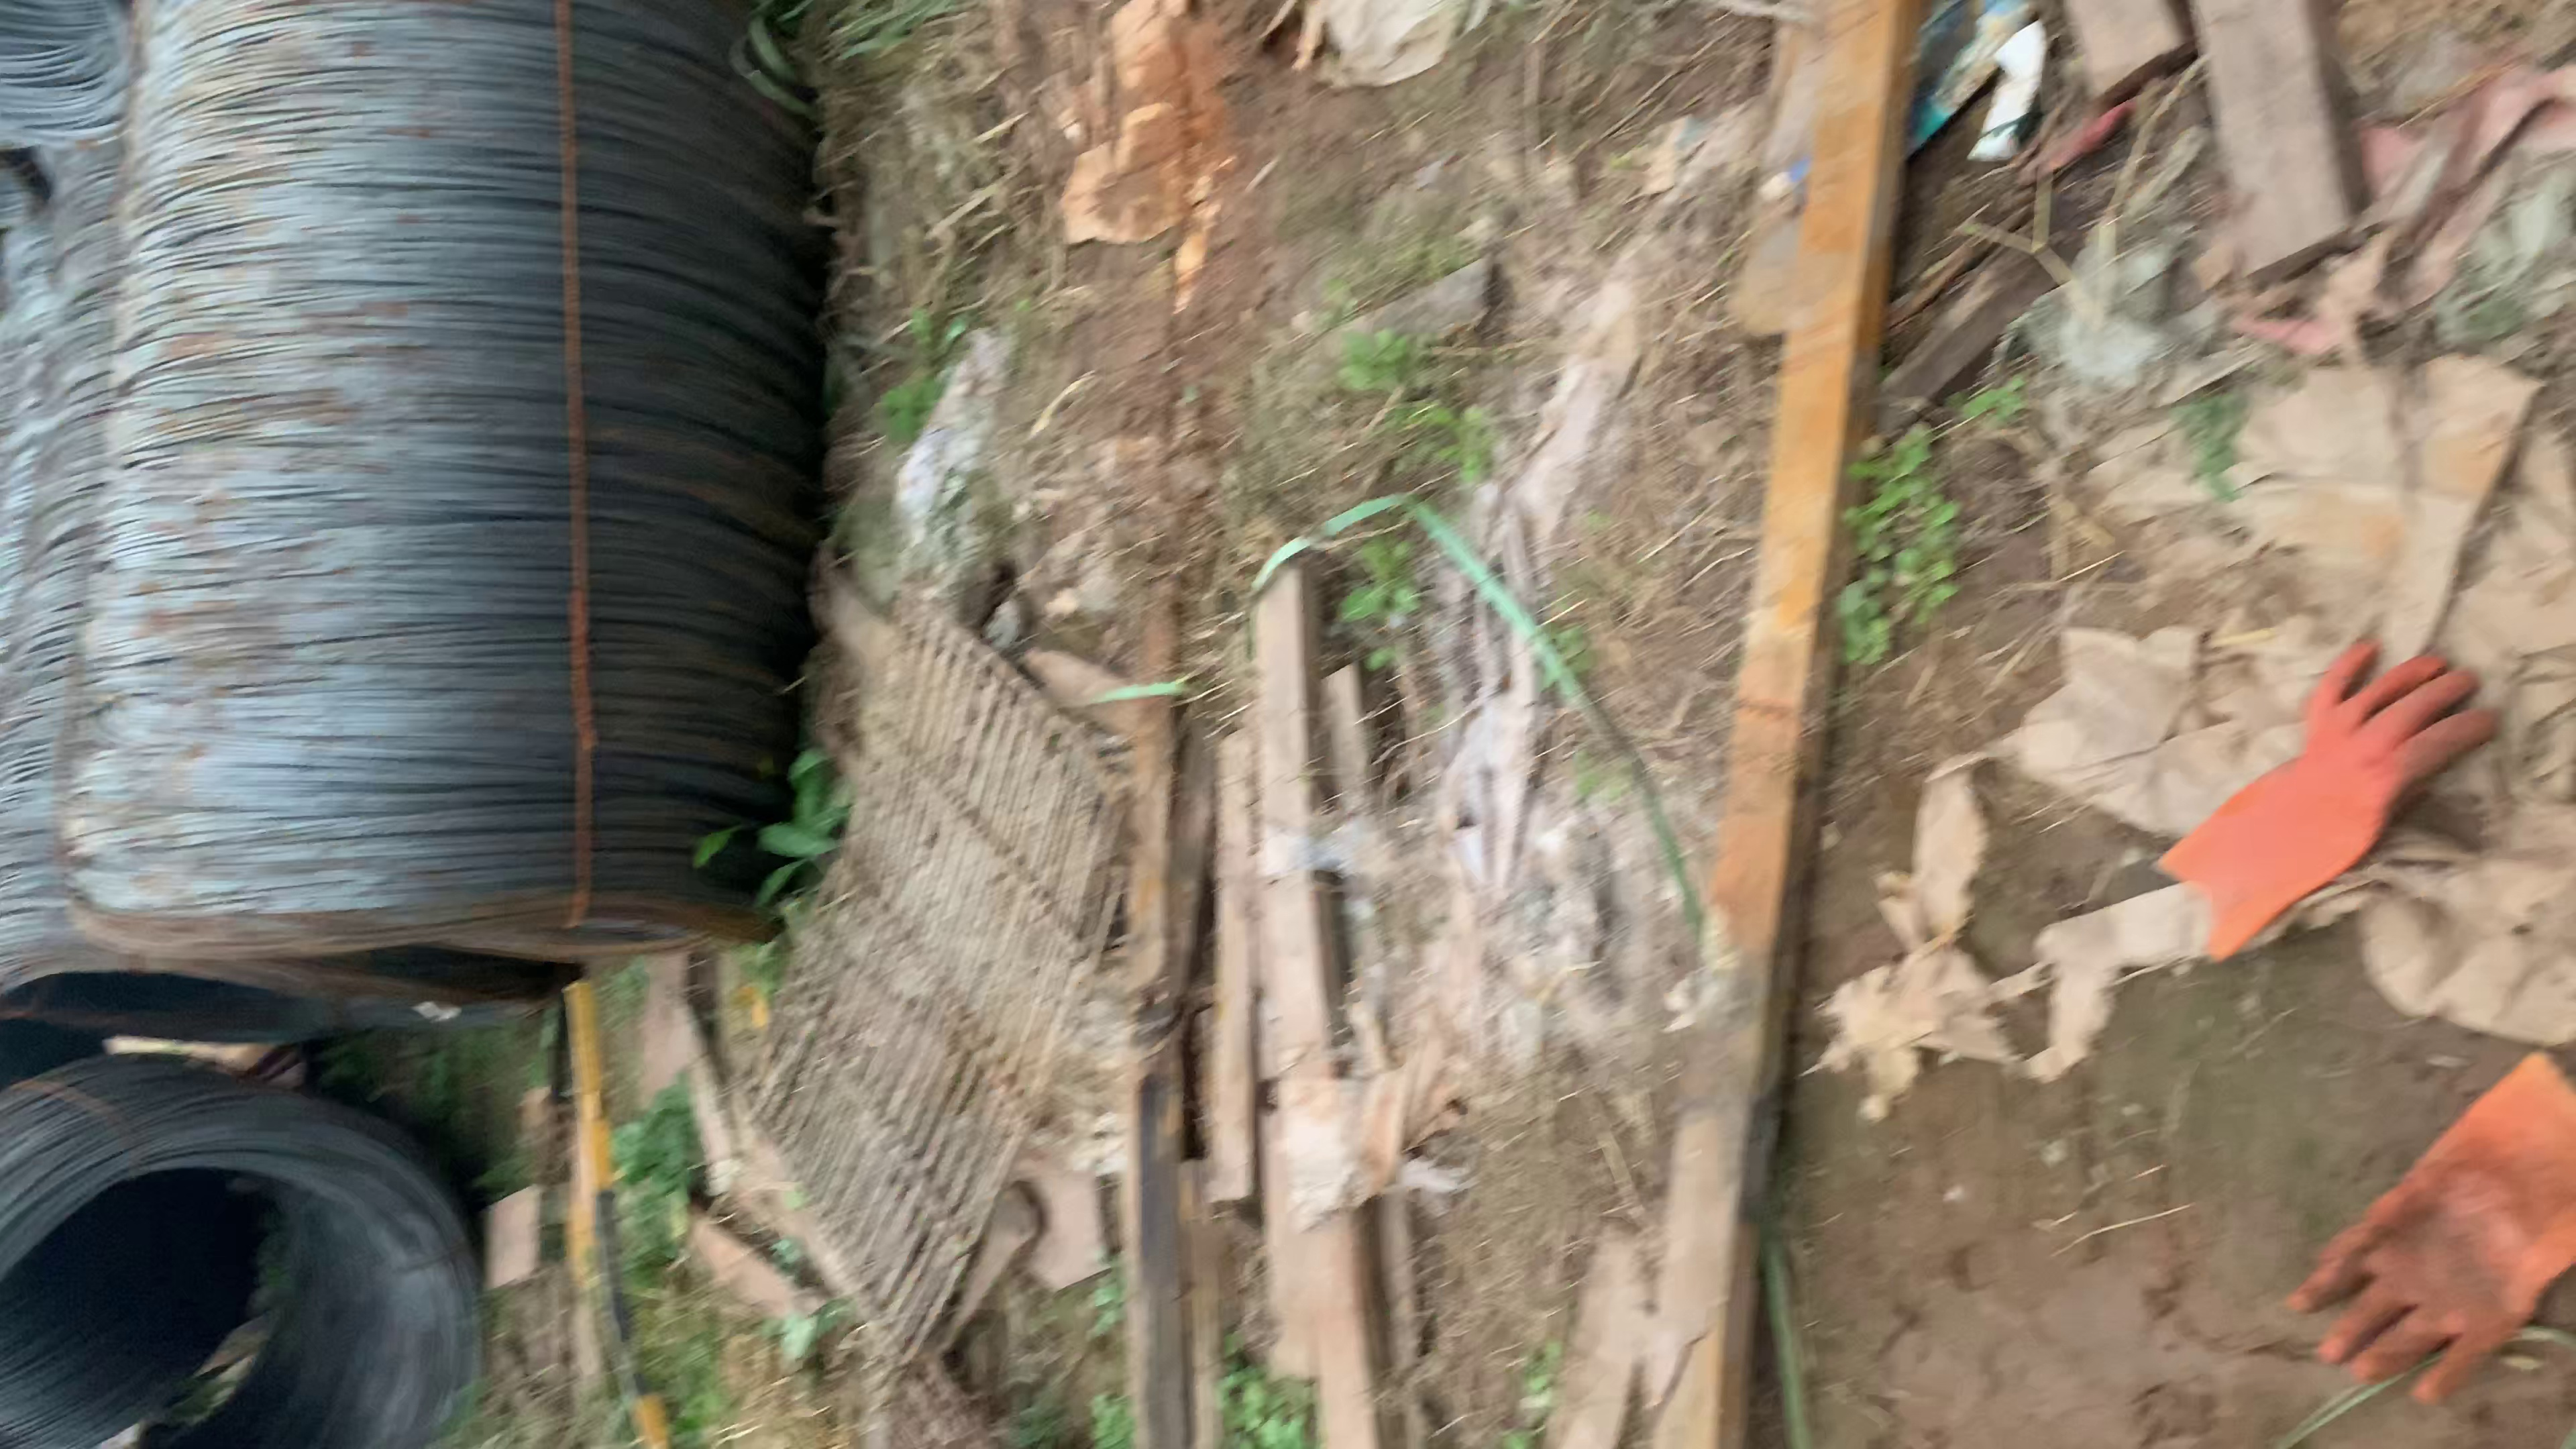coil: (0, 1115, 506, 1415), (0, 947, 547, 1155), (96, 860, 796, 1001)
